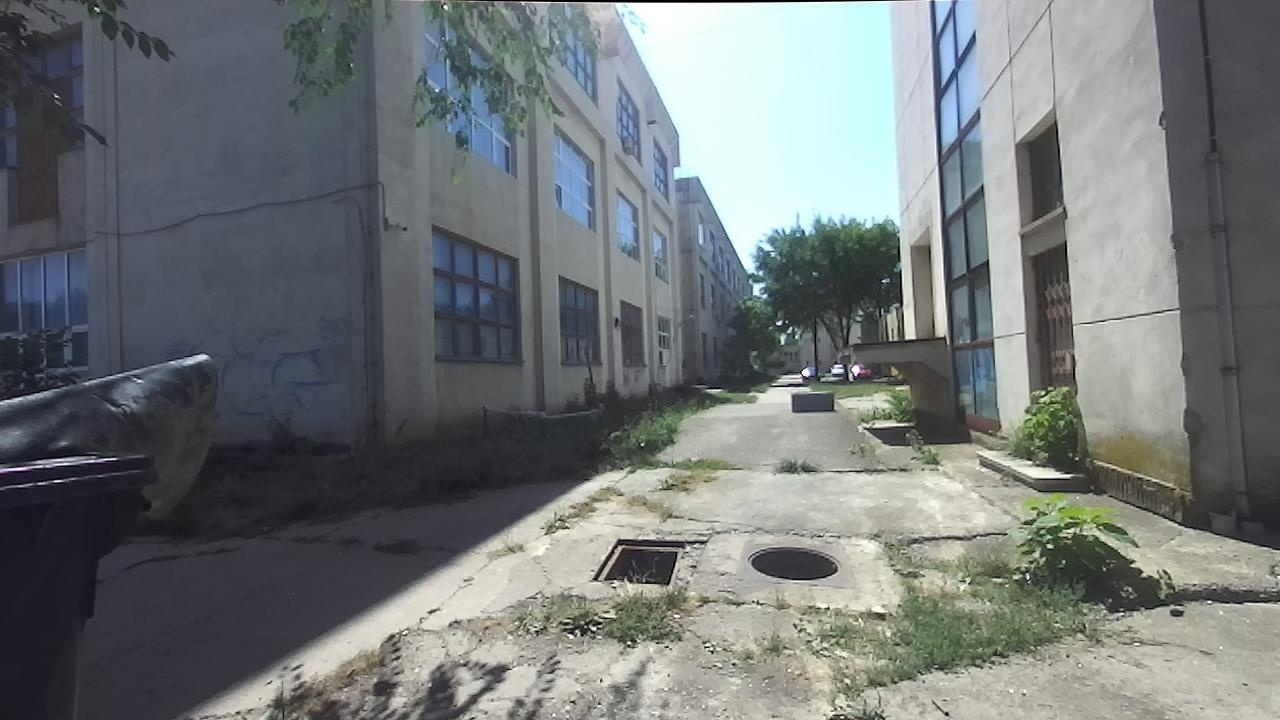drain: (586, 535, 690, 588), (742, 541, 848, 582)
